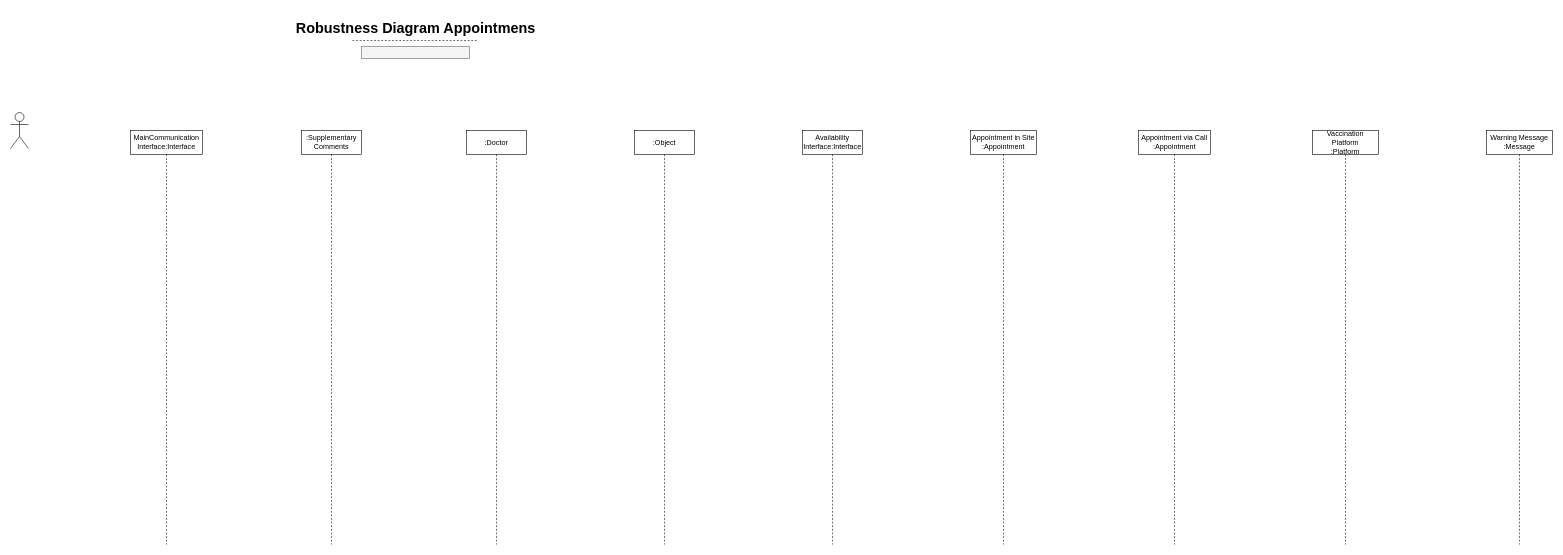
This 1563x555 diagram has some shape labels left out. The box of each missing label's shape, as (x1, y1, x2, y2) in pixels:
Pandaemon | 17 May ,2021: (361, 46, 470, 58)
User: (10, 112, 28, 148)
